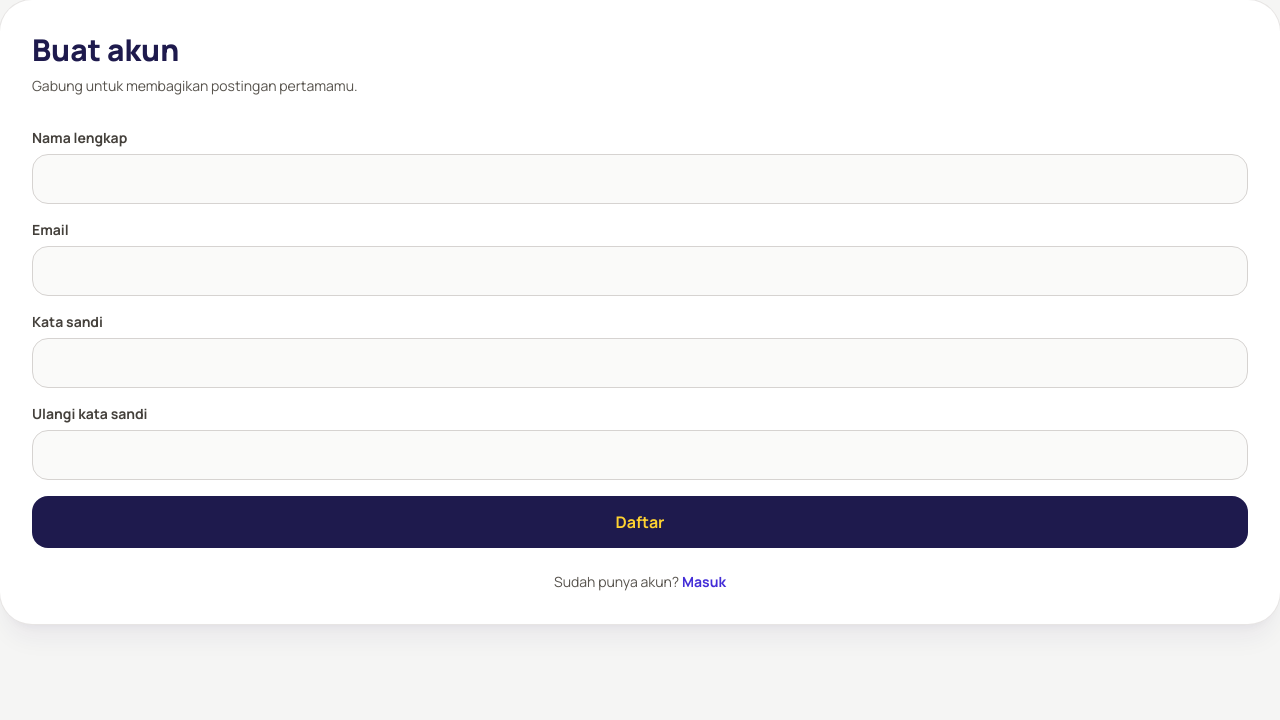
RegisterPage › menolak isian kosong
The image size is (1280, 720).
Click the button "Daftar": (640,522) x1=32 y1=496 x2=1248 y2=548
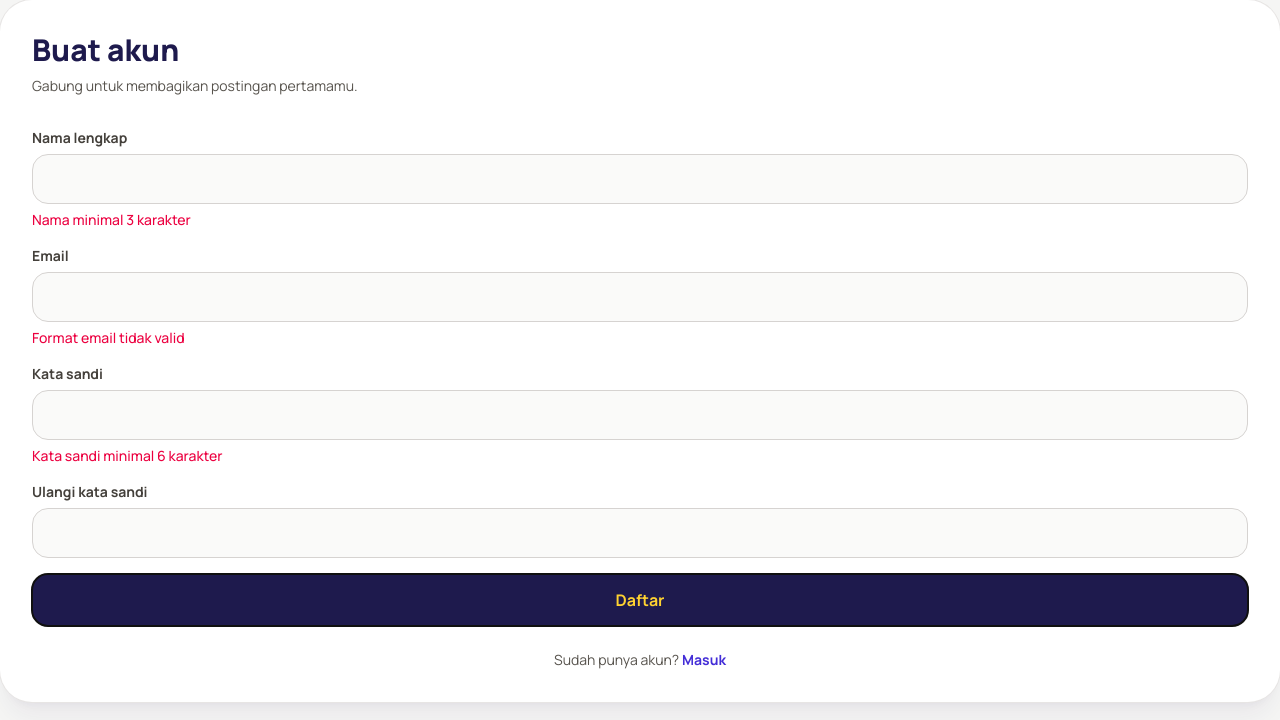
Result: the text "Nama minimal 3 karakter" is shown at x1=32 y1=210 x2=191 y2=229
Result: the text "Format email tidak valid" is shown at x1=32 y1=328 x2=185 y2=347
Result: the text "Kata sandi minimal 6 karakter" is shown at x1=32 y1=446 x2=222 y2=465
